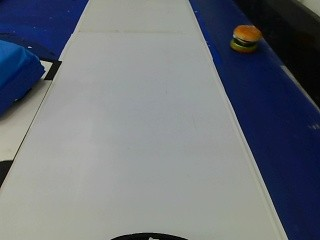burger: (225, 22, 261, 54)
